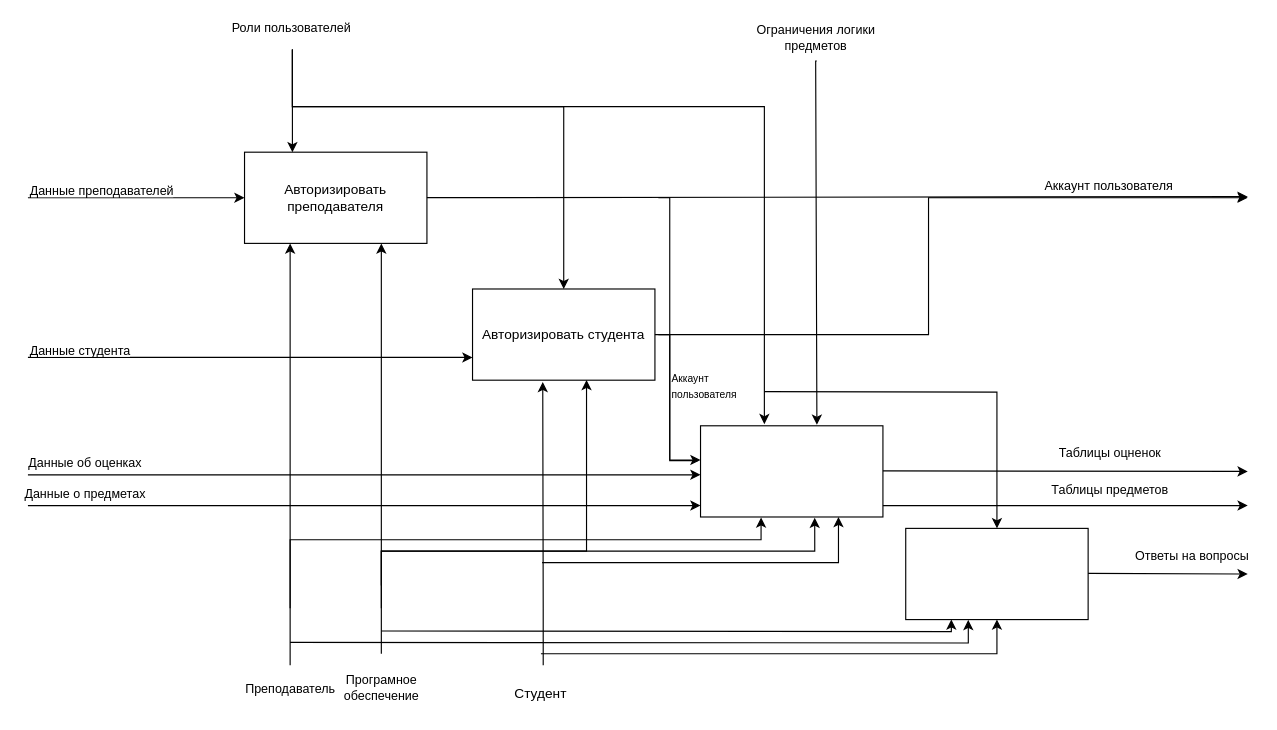
This 1277x730 diagram has some shape labels left out. The shapes that lost their labels are listed below. From the top down, each one's centre as x and y in pixels, then its label:
point 791,471: Работать с оценками
point 996,573: Работать с вопросами
